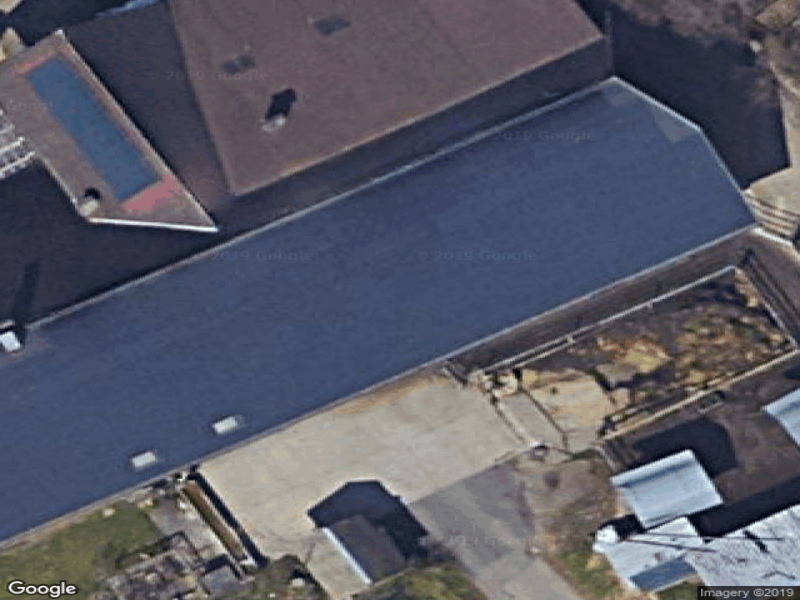pv: (1, 93, 754, 544)
